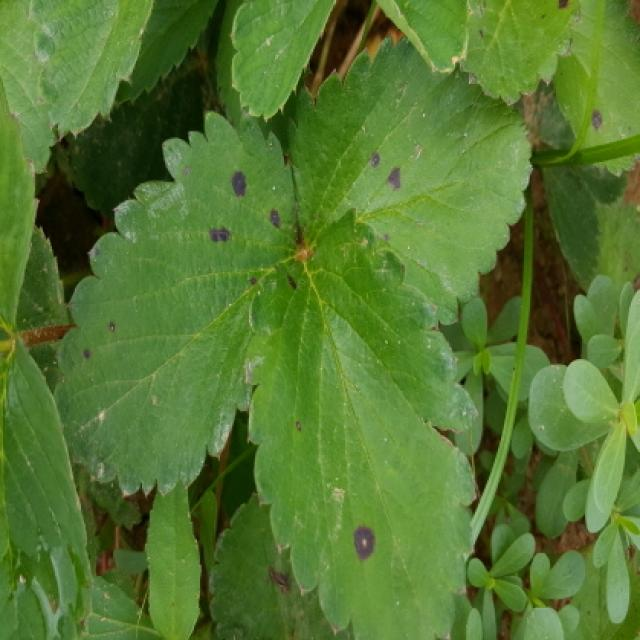Leaf Spot: (240, 204, 478, 638), (55, 107, 302, 501), (283, 36, 536, 326), (374, 0, 572, 110), (554, 0, 640, 178)
